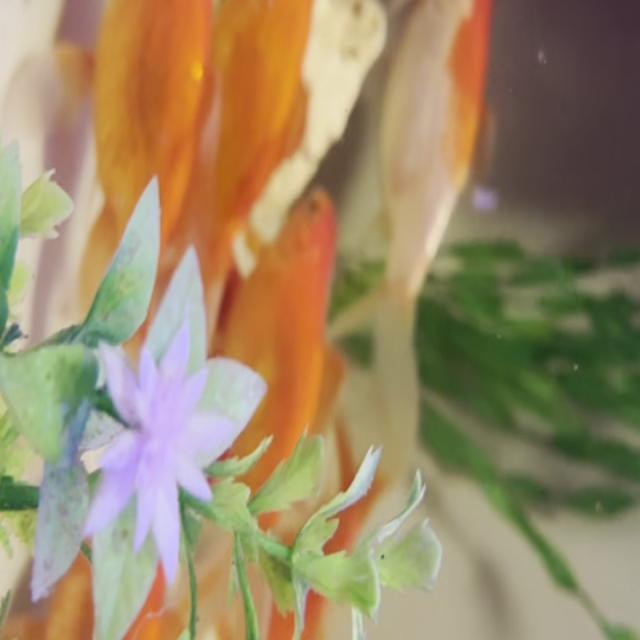fish: (361, 0, 495, 328), (187, 0, 318, 333), (85, 0, 214, 332), (207, 183, 334, 516)
